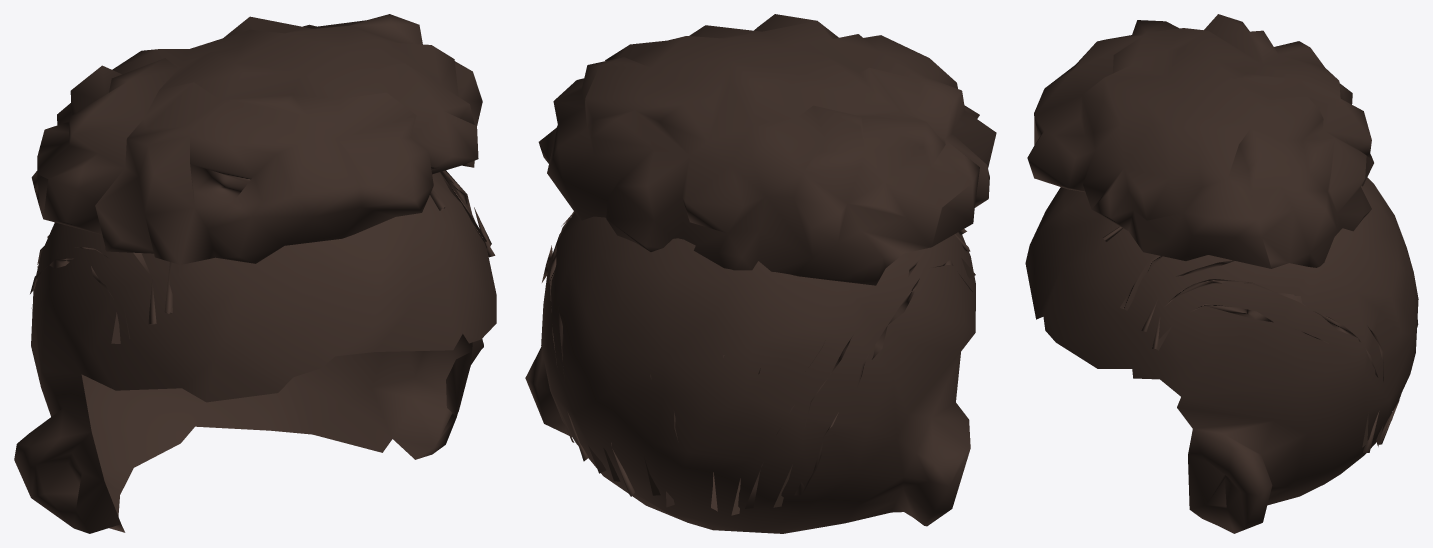
File: curls.glb
The picture shows the model from 3 angles, left to right: view 1: azimuth 30°, elevation 25°; view 2: azimuth 150°, elevation 25°; view 3: azimuth 270°, elevation 25°; orthographic projection. The views are drawn at different scales.
Visible parts, largest first — view 1: HairScalp, Hair, HairPulledRootStrands; view 2: HairScalp, Hair, HairPulledRootStrands; view 3: HairScalp, Hair, HairPulledRootStrands.
Boxes of the visible parts, x1,y1,x2,y2 form: HairScalp: (14,172,496,533); Hair: (31,14,482,264); HairPulledRootStrands: (30,170,495,388); HairScalp: (525,212,975,533); Hair: (538,14,996,285); HairPulledRootStrands: (542,211,975,515); HairScalp: (1025,177,1418,533); Hair: (1027,14,1373,268); HairPulledRootStrands: (1103,226,1418,452).
Bounding box in the file's own units: 0.5102 × 0.4758 × 0.4322.
